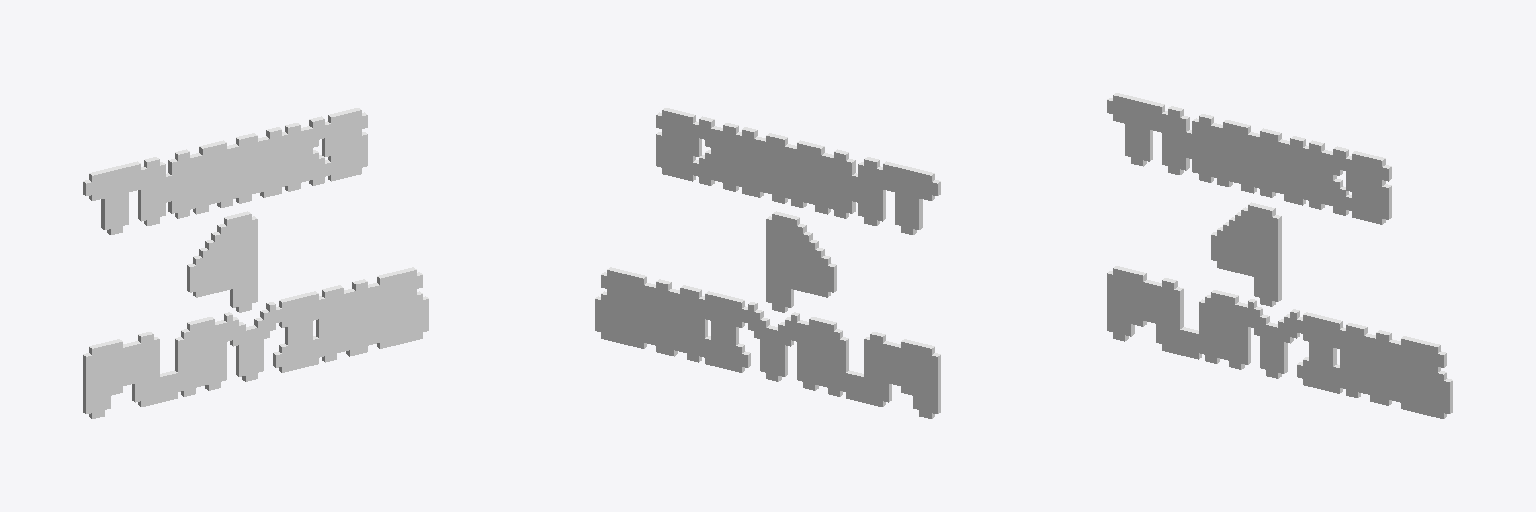
Rendered from Ty4Playing.obj.
3 renders of one model, left to right at view 1: azimuth 30°, elevation 25°; view 2: azimuth 150°, elevation 25°; view 3: azimuth 330°, elevation 25°, orthographic.
Visible parts, largest first — view 1: object 1; view 2: object 1; view 3: object 1.
Boxes of the visible parts, box(x1,y1,x2,y2) form: object 1: box(83, 108, 428, 418); object 1: box(595, 108, 940, 418); object 1: box(1107, 93, 1452, 418).
Bounding box in the file's own units: 5.6 × 3.8 × 0.1.